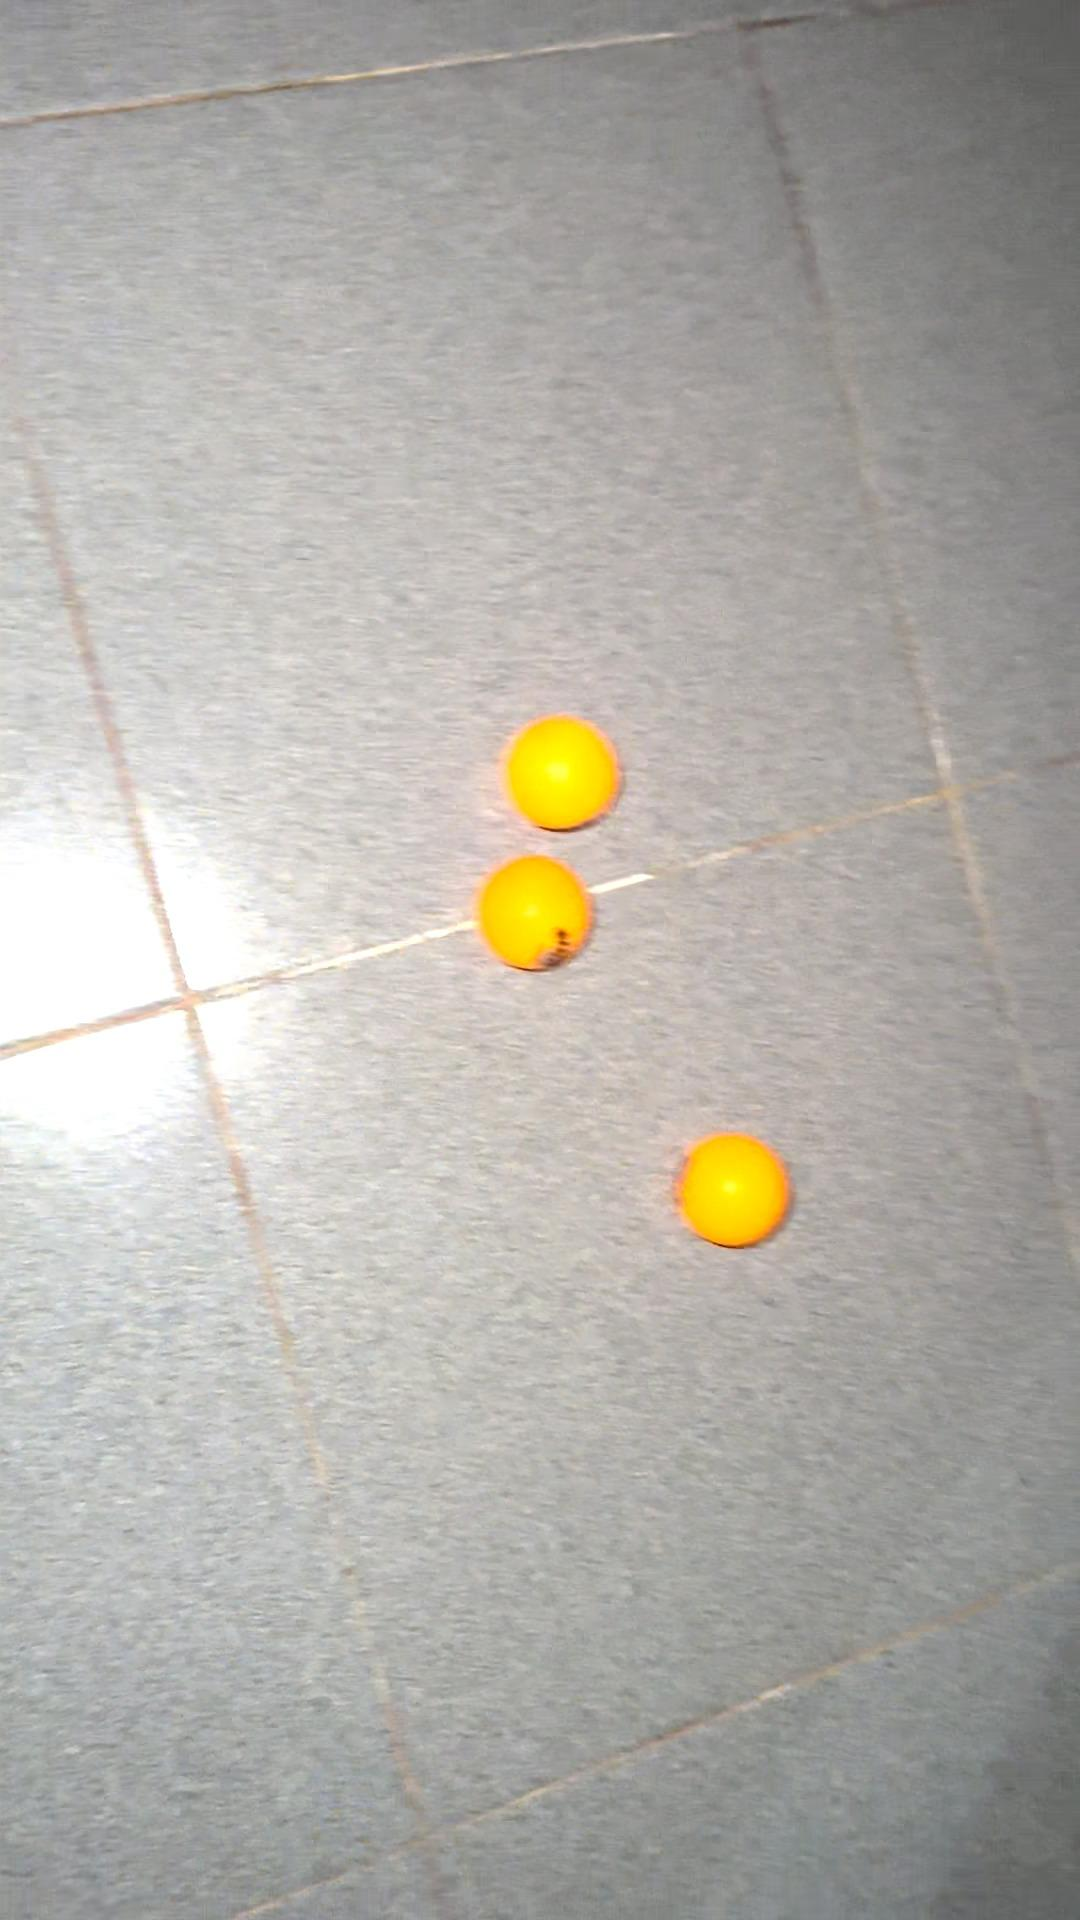oball: (665, 1125, 804, 1255), (491, 702, 626, 835), (475, 844, 604, 971)
